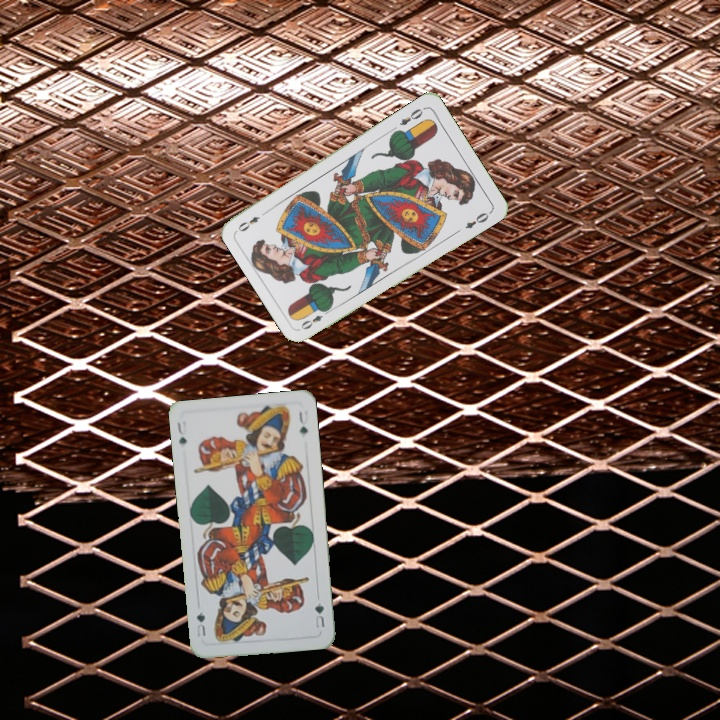EO: (297, 304, 333, 332), (396, 103, 428, 128)
GU: (310, 599, 327, 631), (173, 417, 189, 448)
